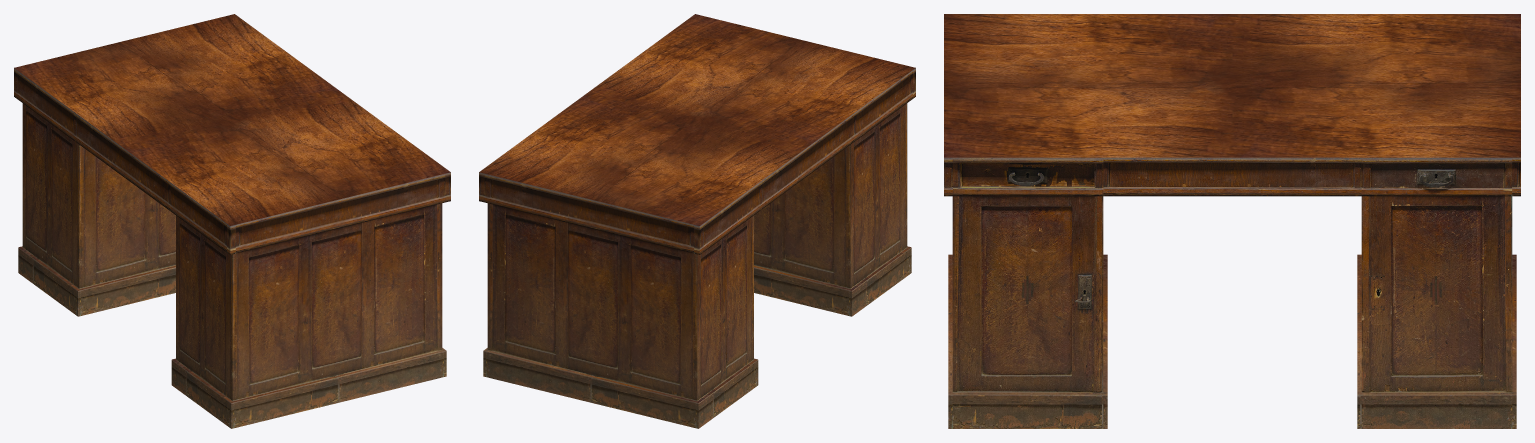
3 views of the same model, side by side, from view 1: azimuth 30°, elevation 25°; view 2: azimuth 150°, elevation 25°; view 3: azimuth 270°, elevation 25° (orthographic). The views are drawn at different scales.
Parts seen in each view (by area): view 1: table_1; view 2: table_1; view 3: table_1.
Part boxes in pixels (x1,y1,x2,y2): table_1: [14, 14, 450, 428]; table_1: [479, 14, 915, 428]; table_1: [944, 14, 1520, 428].
Bounding box in the file's own units: 0.79 × 0.7 × 1.34.
1 material, 1 textured.
